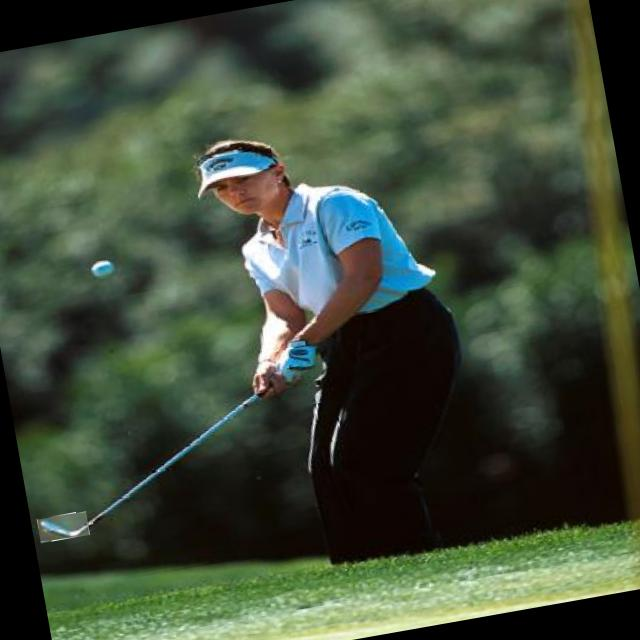club head: (36, 511, 90, 544)
